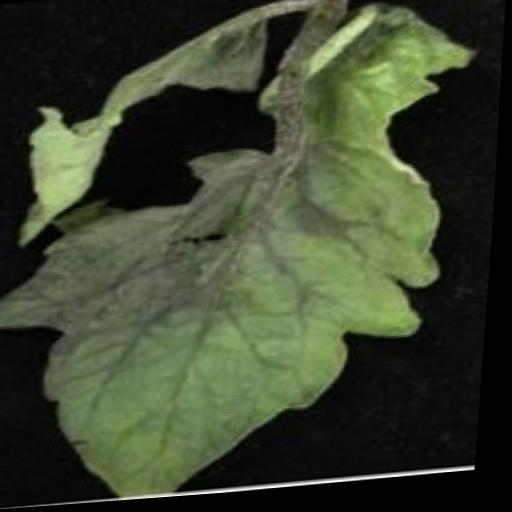Late Blight: (0, 0, 484, 509)
